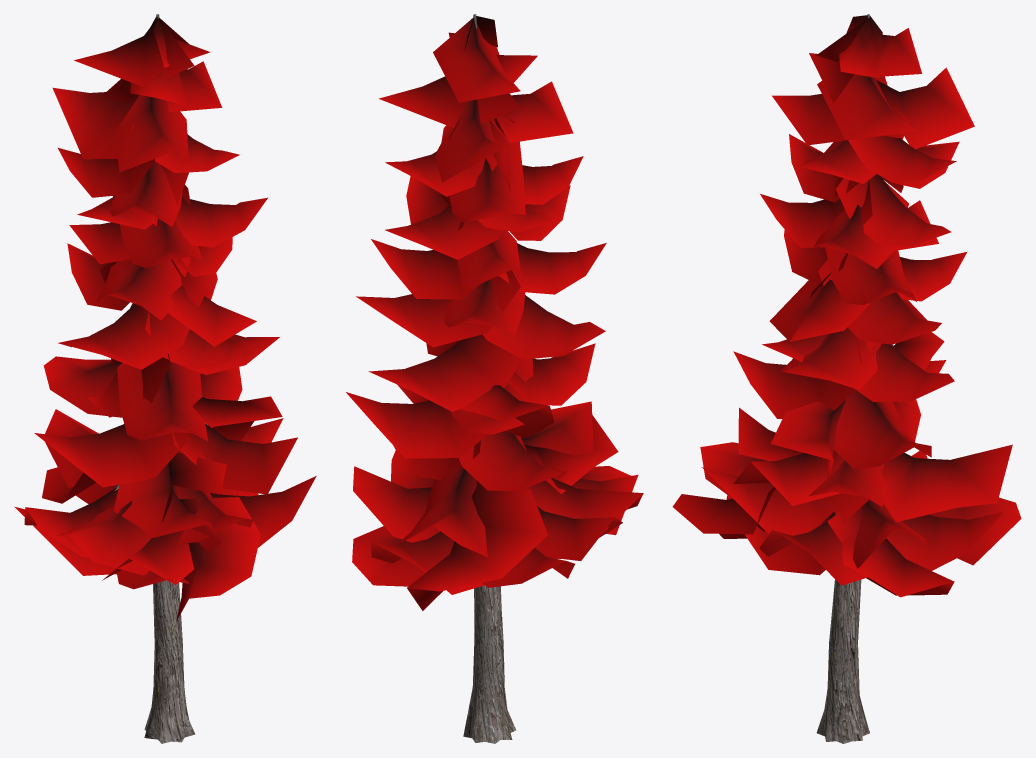
Rendered from SM_PineTree_A.FBX.
3 renders of one model, left to right at view 1: azimuth 30°, elevation 25°; view 2: azimuth 150°, elevation 25°; view 3: azimuth 270°, elevation 25°, orthographic. The views are drawn at different scales.
Parts seen in each view (by area): view 1: Canopy, Trunk; view 2: Canopy, Trunk; view 3: Canopy, Trunk.
Part boxes in pixels (bbox=[...]): Canopy: bbox=[14, 16, 316, 621]; Trunk: bbox=[113, 14, 207, 743]; Canopy: bbox=[346, 16, 643, 610]; Trunk: bbox=[463, 14, 515, 743]; Canopy: bbox=[672, 15, 1021, 597]; Trunk: bbox=[816, 14, 869, 743].
Size of what is drawn, in the model's own units: 120 by 329 by 145.
